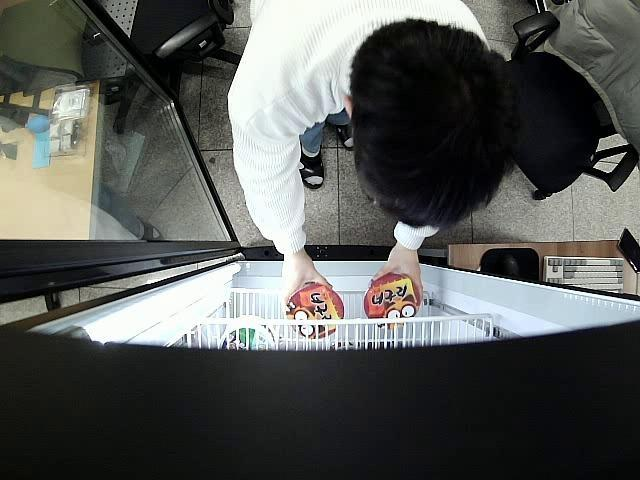05_nuguri_L: (362, 273, 422, 329), (286, 282, 344, 338)
